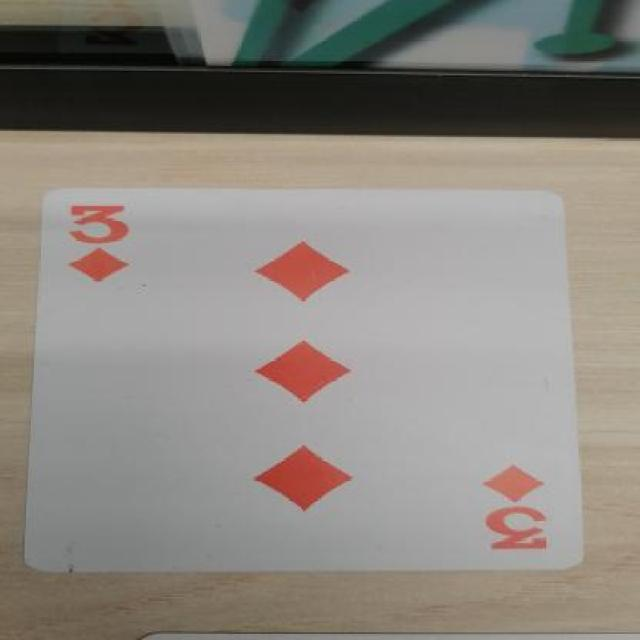3D: (46, 195, 154, 296), (492, 459, 578, 563)
